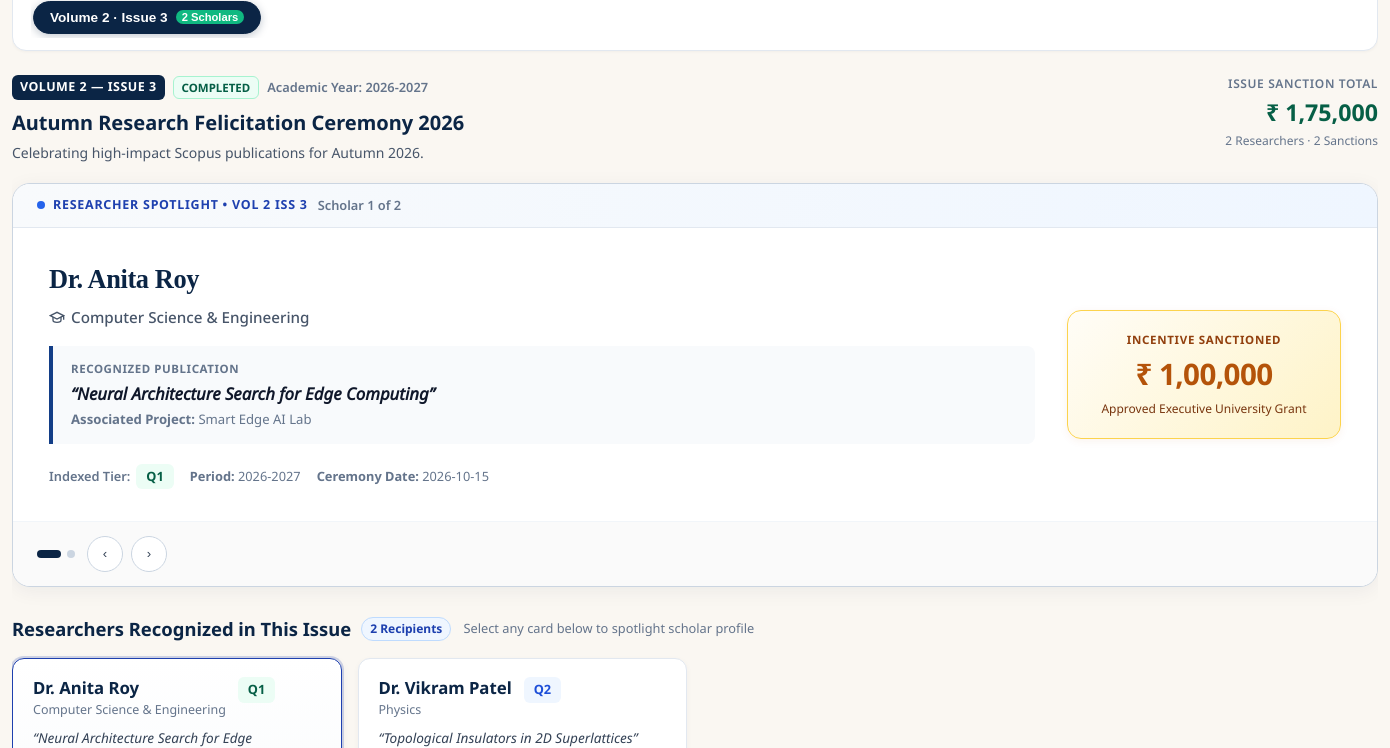
Test case: FelicitationShowcase Component Tests › 8. Handles touch swipe navigation on mobile devices
(page scrolled)
Press the mouse on the element "Researcher Spotlight" at (695, 385), box [12, 183, 1378, 587]
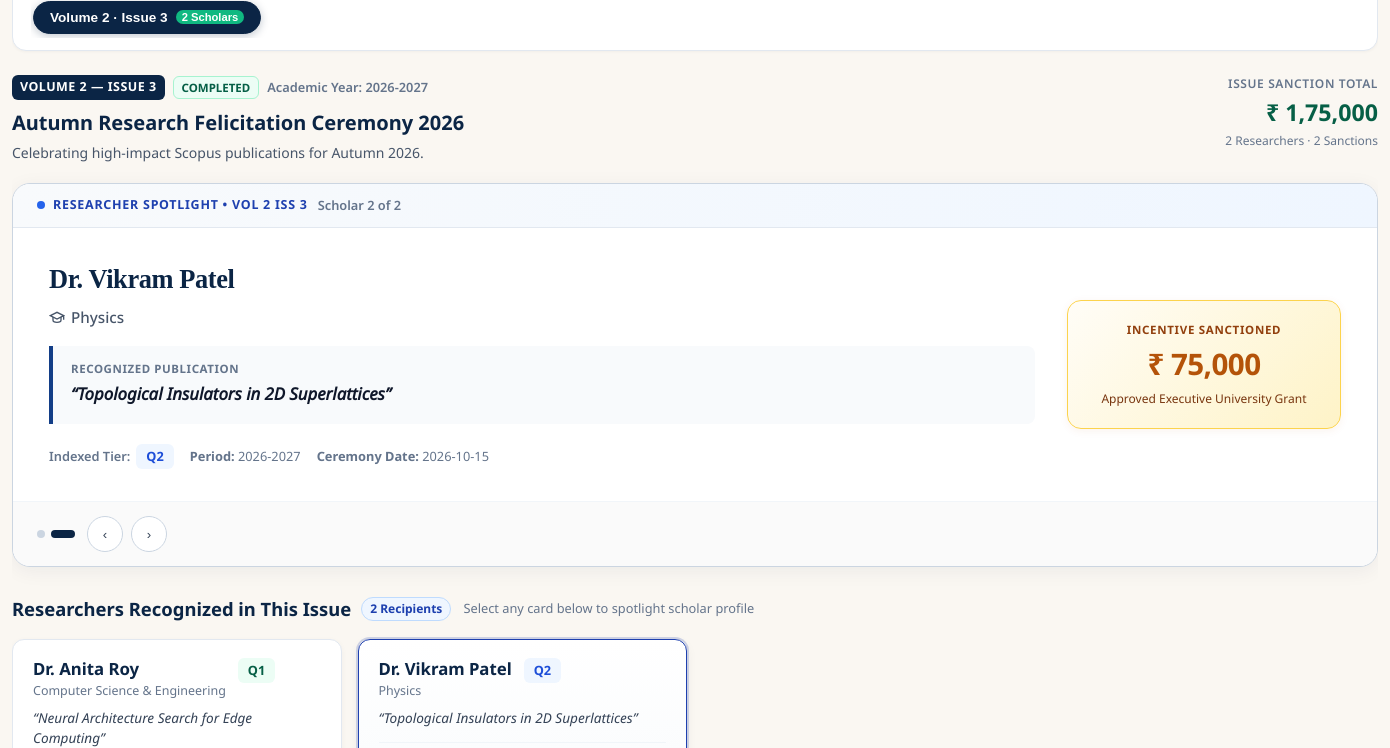
Expected: the heading "Dr. Vikram Patel" below "Researcher Spotlight • Vol" is shown, [49, 264, 234, 294]
Press the mouse on the element "Researcher Spotlight" at (695, 375), box [12, 183, 1378, 567]
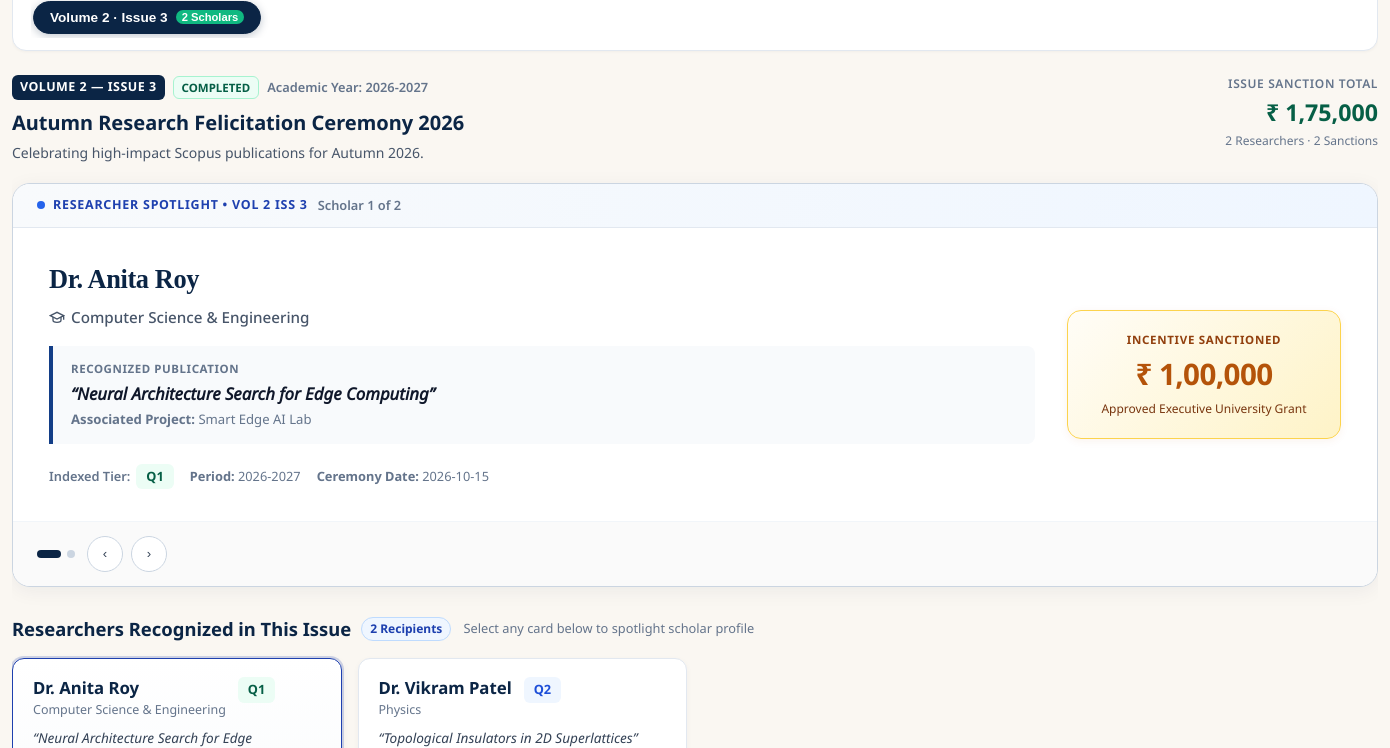
Expected: the heading "Dr. Anita Roy" below "Researcher Spotlight • Vol" is shown, [49, 264, 199, 294]
